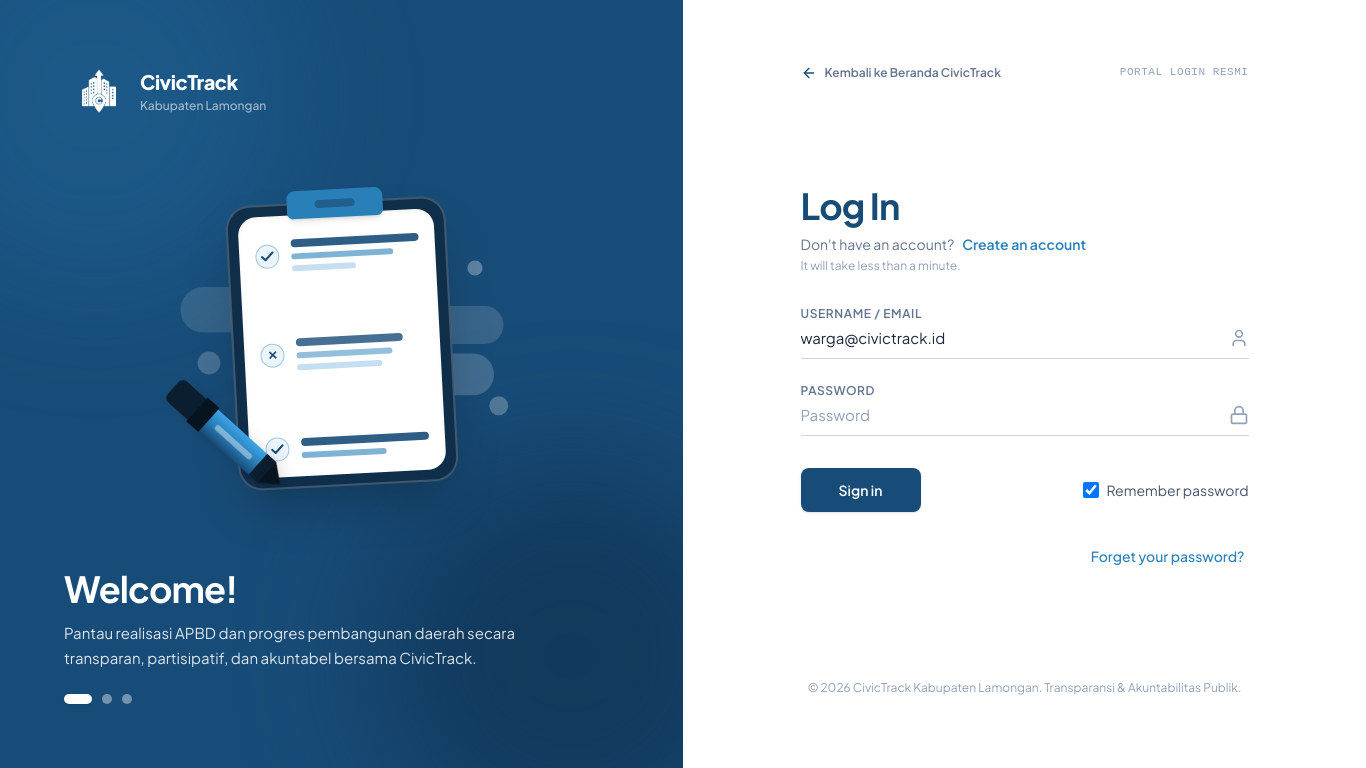
Test case: LoginPage Component › changes active carousel slide when clicking dot
Click the tab named "lihat slide 2". click: (107, 699)
box: top-left (102, 694), bottom-right (112, 704)
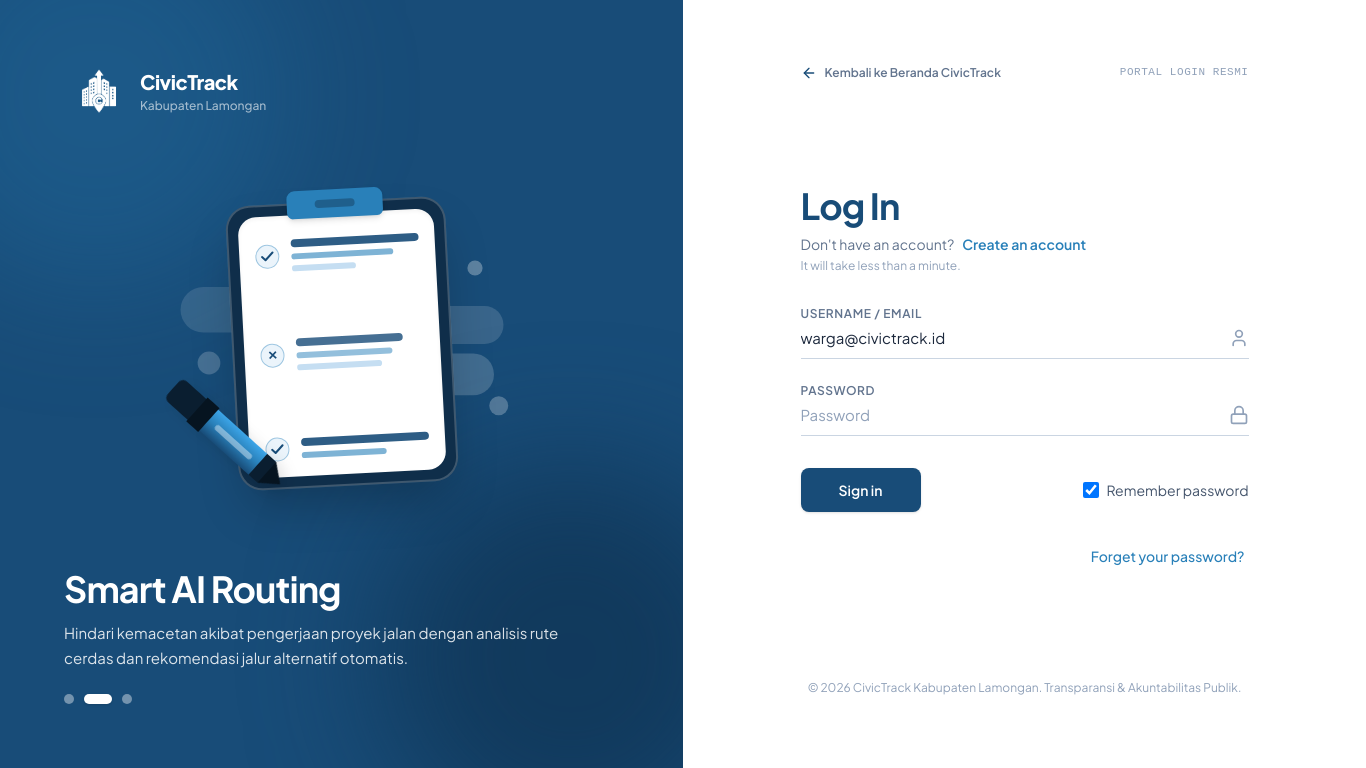
Now the heading "Smart AI Routing" is shown, box top-left (64, 566), bottom-right (341, 611)
